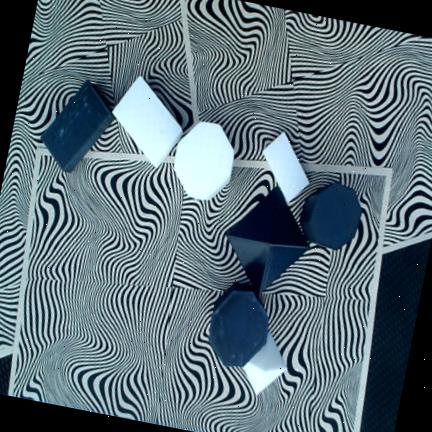Paralelepipedo: (41, 80, 115, 173), (113, 76, 184, 168), (263, 131, 309, 201)
Piramide: (227, 187, 308, 292), (242, 331, 287, 396)
Prisma_hexagonal: (209, 282, 268, 367), (174, 121, 235, 200), (300, 183, 361, 249)
